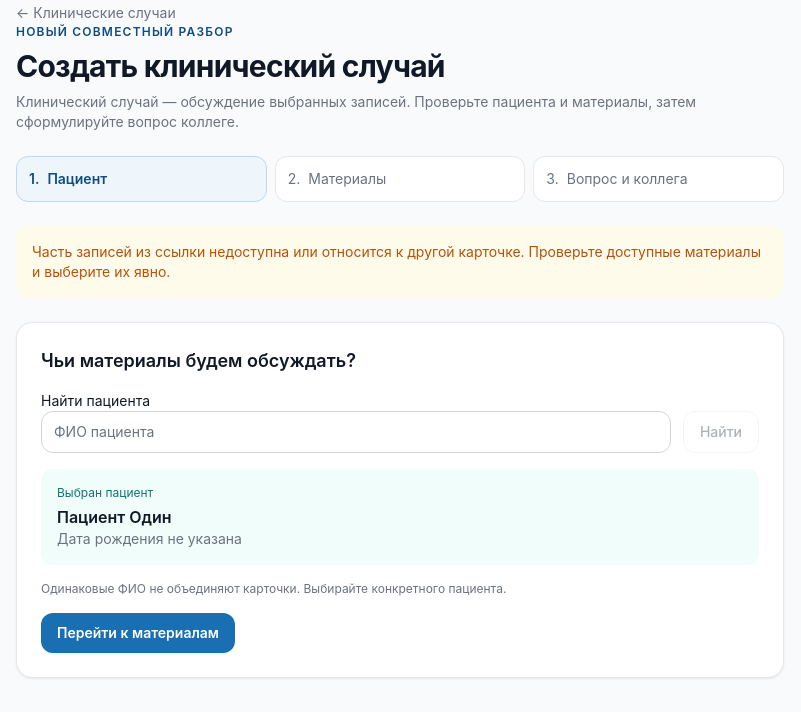
preselects only explicitly linked records after checking access and their patient
The width and height of the screenshot is (801, 712).
Expected: the text "Часть записей из ссылки недоступна" is shown, [32,243,761,280]
Click the button "Перейти к материалам" at (138, 633), box [41,613,235,653]
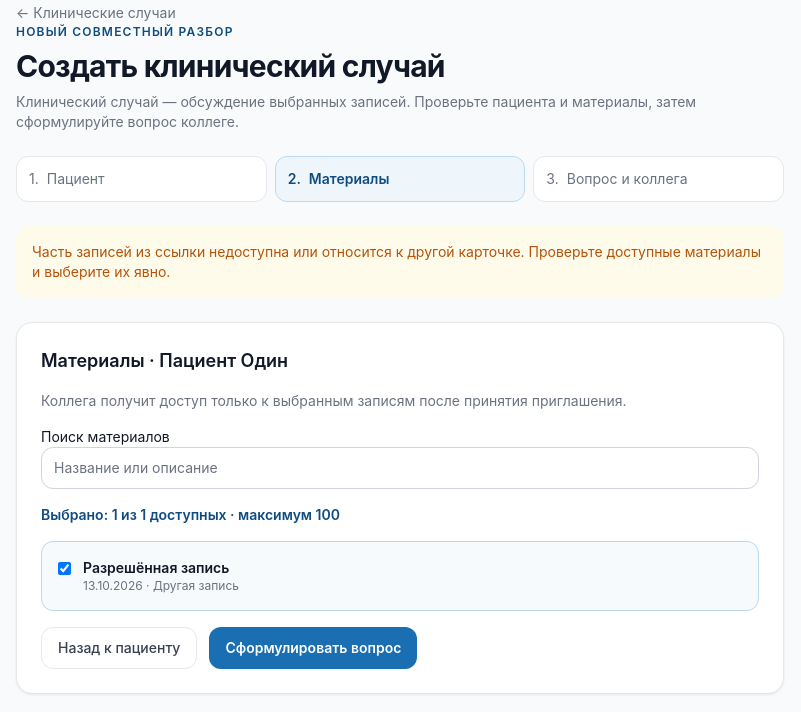
Now the text "Выбрано: 1 из 1 доступных · максимум 100" is shown, box [41,506,340,523]
Now the checkbox labelled "Разрешённая запись 13.10.2026 · Другая запись" is checked
Click the checkbox labelled "Разрешённая запись 13.10.2026 · Другая запись" at (64, 568), box [58,562,71,575]
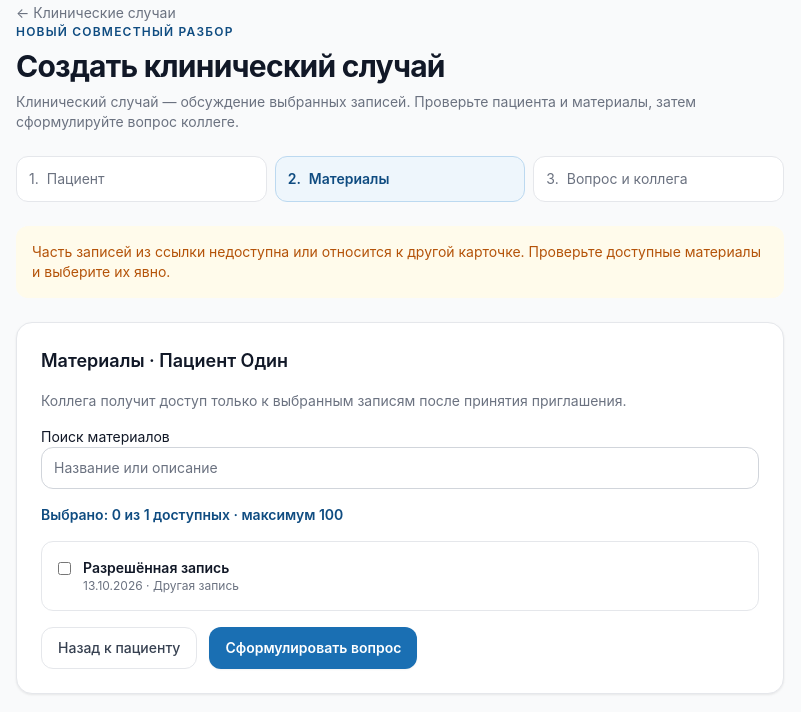
Now the text "Выбрано: 0 из 1 доступных · максимум 100" is shown, box [41,506,343,523]
